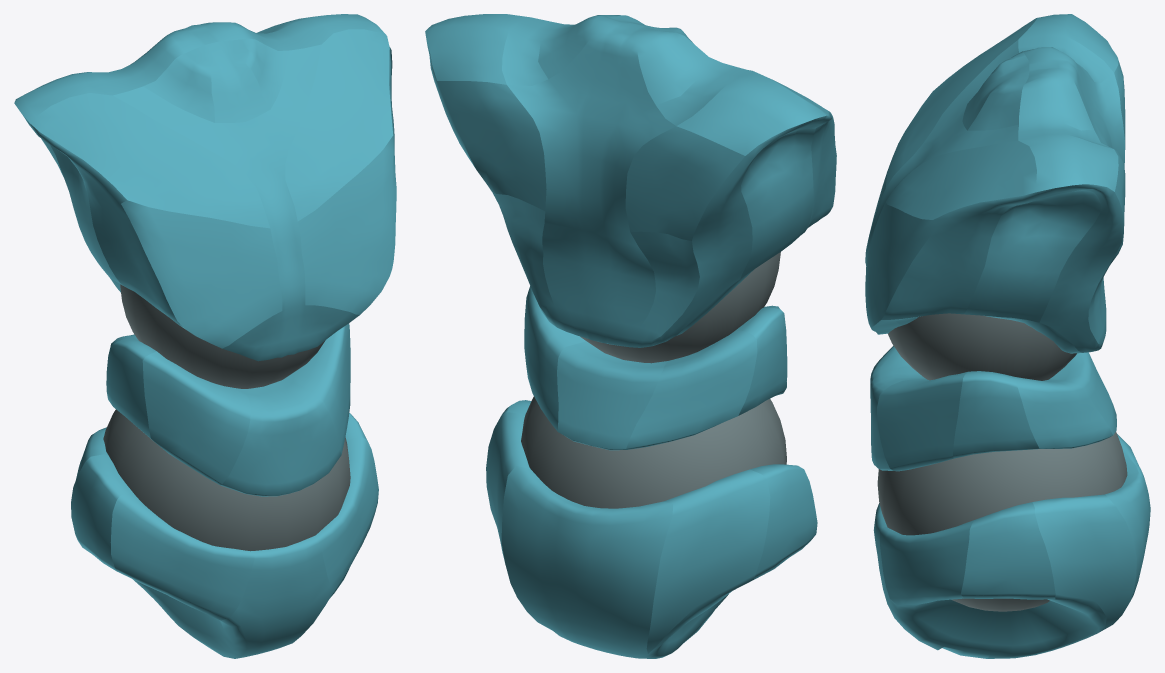
Rendered from Body.fbx.
3 renders of one model, left to right at view 1: azimuth 30°, elevation 25°; view 2: azimuth 150°, elevation 25°; view 3: azimuth 270°, elevation 25°, orthographic. The views are drawn at different scales.
Visible parts, largest first — view 1: Body Mesh; view 2: Body Mesh; view 3: Body Mesh.
Boxes of the visible parts, <box> form: Body Mesh: <box>14,14,396,658</box>; Body Mesh: <box>425,14,836,658</box>; Body Mesh: <box>865,14,1150,658</box>.
Bounding box in the file's own units: 44.53 × 71.03 × 31.04.
